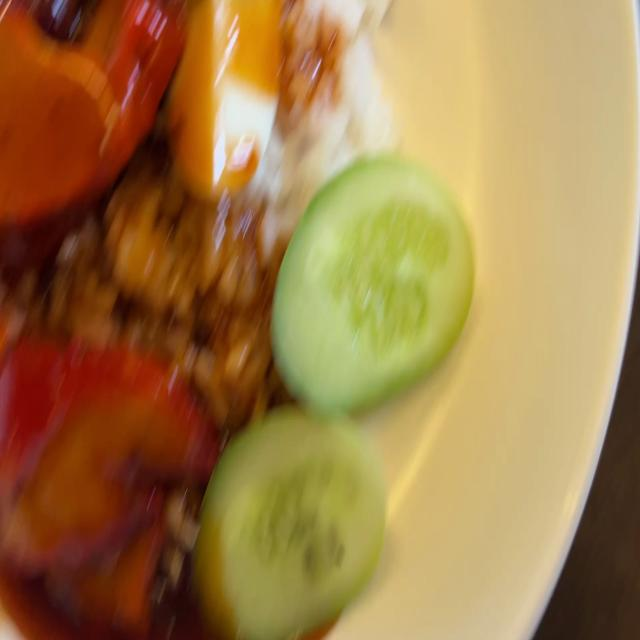red_pork_and_crispy_pork: (172, 0, 274, 200)
